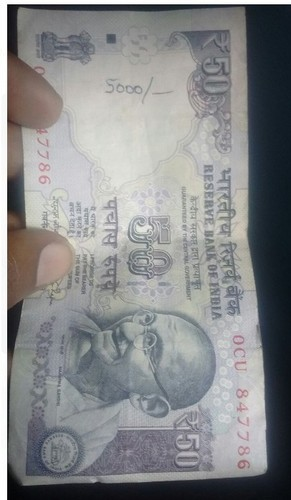indian-50-ruppes: (18, 7, 269, 482)
